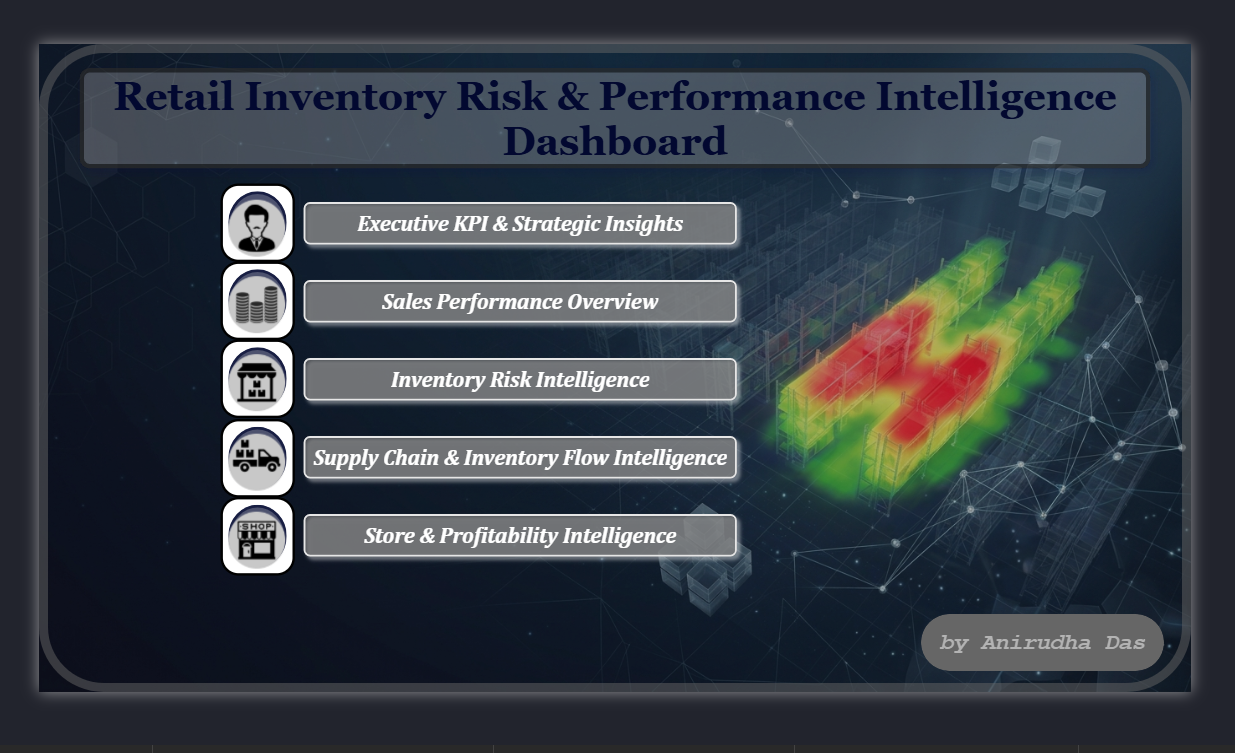

Layout of this report page (visuals, bound fields, positions):
{"tool":"powerbi","page":{"name":"Presentation Start  :-","canvas":[1280,720],"ordinal":0},"visuals":[{"type":"shape","box":[0,0,1280,720],"z":0},{"type":"shape","box":[201.2,154.4,83,87.4],"z":0,"group":"g5"},{"type":"shape","box":[201.2,241.6,83,87.4],"z":0,"group":"g4"},{"type":"shape","box":[201.2,328.8,83,87.4],"z":0,"group":"g3"},{"type":"shape","box":[201.2,416,83,87.4],"z":0,"group":"g2"},{"type":"shape","box":[201.2,503.3,83,87.4],"z":0,"group":"g1"},{"type":"shape","box":[30,11.7,1220,141.7],"z":1000},{"type":"actionButton","box":[191.9,151.3,100.8,105.7],"z":1000,"group":"g5"},{"type":"actionButton","box":[191.9,236.9,100.8,105.7],"z":1000,"group":"g4"},{"type":"actionButton","box":[191.9,324.1,100.8,105.7],"z":1000,"group":"g3"},{"type":"actionButton","box":[191.9,411.3,100.8,105.7],"z":1000,"group":"g2"},{"type":"actionButton","box":[191.9,498.6,100.8,105.7],"z":1000,"group":"g1"},{"type":"shape","box":[284.6,514,499.3,65.1],"z":1500},{"type":"group","id":"g1","title":"Page 5","box":[191.9,498.6,100.8,105.7],"z":2000},{"type":"shape","box":[284.6,427,499.3,65.1],"z":2500},{"type":"group","id":"g2","title":"Page 4","box":[191.9,411.3,100.8,105.7],"z":3000},{"type":"shape","box":[284.6,339.9,499.3,65.1],"z":3500},{"type":"group","id":"g3","title":"Page 3","box":[191.9,324.1,100.8,105.7],"z":4000},{"type":"shape","box":[284.6,252.9,499.3,65.1],"z":4500},{"type":"group","id":"g4","title":"Page 2","box":[191.9,236.9,100.8,105.7],"z":5000},{"type":"shape","box":[284.6,165.9,499.3,65.1],"z":6000},{"type":"group","id":"g5","title":"Page 1","box":[191.9,151.3,100.8,105.7],"z":7000},{"type":"shape","box":[980,633.3,270,63.3],"z":7001}]}

Visuals, with their boxes on the page's 1280x720 design canvas (x1, y1, x2, y2). These are canvas units, not pixel positions in the 1235x753 screenshot, which may show the page scaled, cropped or inside an application window:
shape: <region>0, 0, 1280, 720</region>
shape: <region>201, 154, 284, 242</region>
shape: <region>201, 242, 284, 329</region>
shape: <region>201, 329, 284, 416</region>
shape: <region>201, 416, 284, 503</region>
shape: <region>201, 503, 284, 591</region>
shape: <region>30, 12, 1250, 153</region>
actionButton: <region>192, 151, 293, 257</region>
actionButton: <region>192, 237, 293, 343</region>
actionButton: <region>192, 324, 293, 430</region>
actionButton: <region>192, 411, 293, 517</region>
actionButton: <region>192, 499, 293, 604</region>
shape: <region>285, 514, 784, 579</region>
"Page 5" group: <region>192, 499, 293, 604</region>
shape: <region>285, 427, 784, 492</region>
"Page 4" group: <region>192, 411, 293, 517</region>
shape: <region>285, 340, 784, 405</region>
"Page 3" group: <region>192, 324, 293, 430</region>
shape: <region>285, 253, 784, 318</region>
"Page 2" group: <region>192, 237, 293, 343</region>
shape: <region>285, 166, 784, 231</region>
"Page 1" group: <region>192, 151, 293, 257</region>
shape: <region>980, 633, 1250, 697</region>
